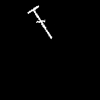double_crochet: (28, 6, 51, 37)
